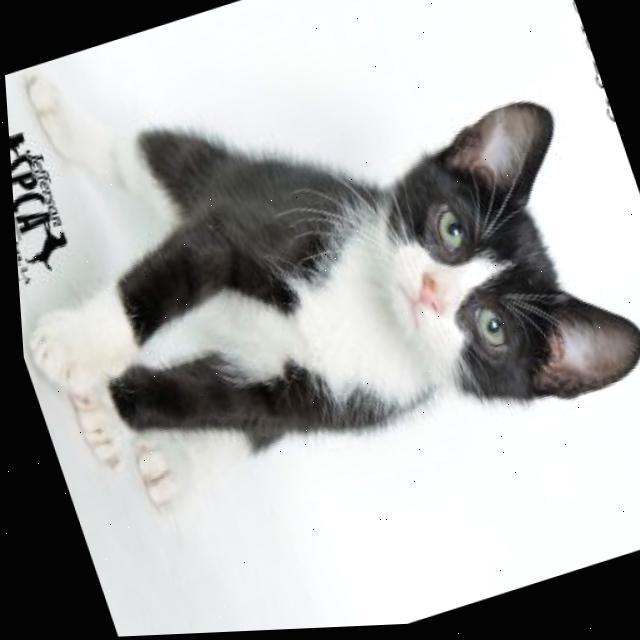Tuxedo: (0, 0, 640, 555)
